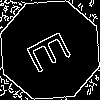E: (25, 25, 81, 75)
